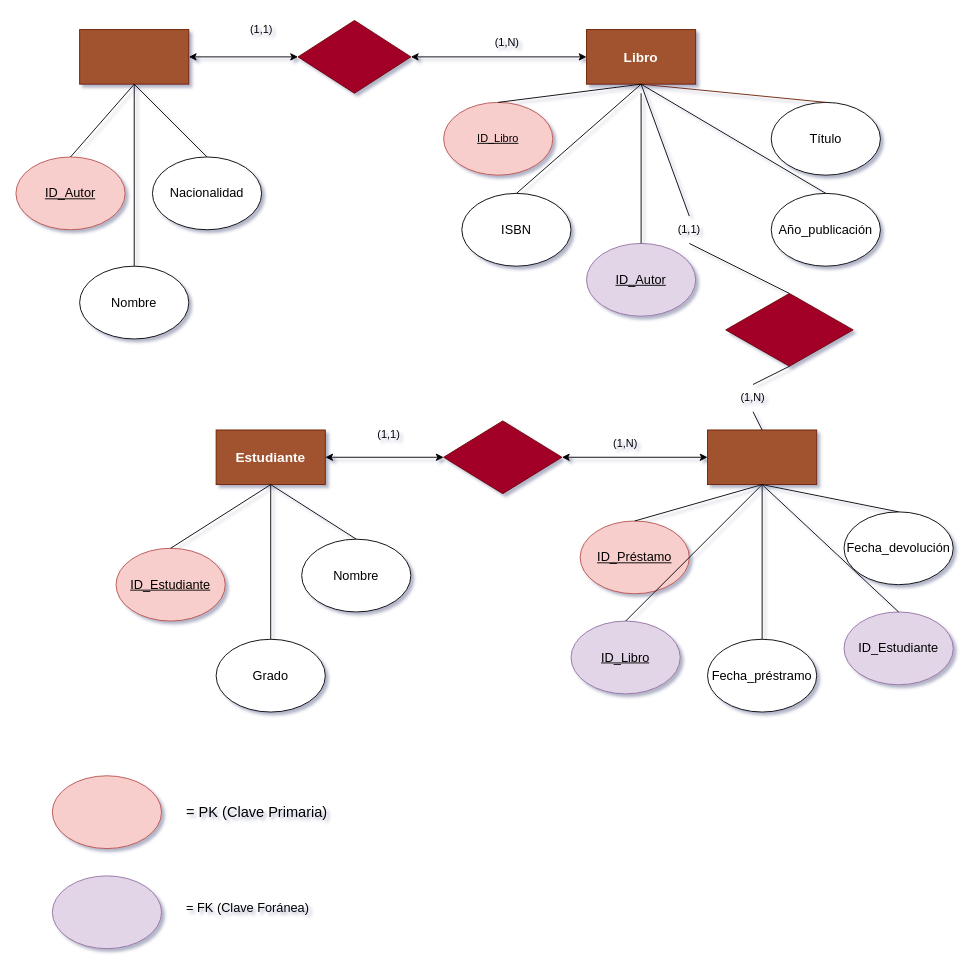
The diagram is 975 pixels wide and 970 high, and some of its shapes have lost their labels. Each missing label, with the centre of its shape:
Autor: the point at 134,56
Escribe: the point at 354,56
Préstamo: the point at 762,457
Realiza: the point at 502,457
Se_presta: the point at 789,329
